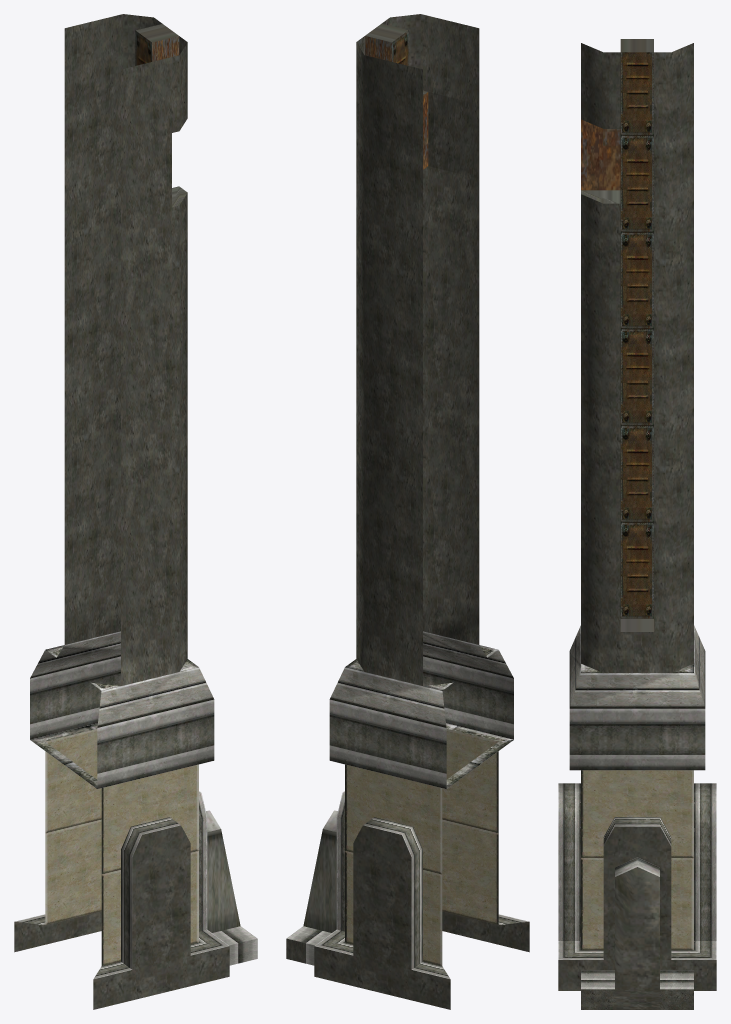
Rendered from DWARF_PALACE_ARKENSTON_BUCKET_COLUMN01.fbx.
The picture shows the model from 3 angles, left to right: view 1: azimuth 30°, elevation 25°; view 2: azimuth 150°, elevation 25°; view 3: azimuth 270°, elevation 25°; orthographic projection.
Visible parts, largest first — view 1: DWARF_PALACE_ARKENSTON_BUCKET_COLUMN01; view 2: DWARF_PALACE_ARKENSTON_BUCKET_COLUMN01; view 3: DWARF_PALACE_ARKENSTON_BUCKET_COLUMN01.
Part boxes in pixels (bbox=[...]): DWARF_PALACE_ARKENSTON_BUCKET_COLUMN01: bbox=[14, 14, 257, 1009]; DWARF_PALACE_ARKENSTON_BUCKET_COLUMN01: bbox=[286, 14, 529, 1009]; DWARF_PALACE_ARKENSTON_BUCKET_COLUMN01: bbox=[558, 39, 716, 1009].
Bounding box in the file's own units: 18000 × 90446 × 14000.
Materials: 7 (7 with a texture image).
